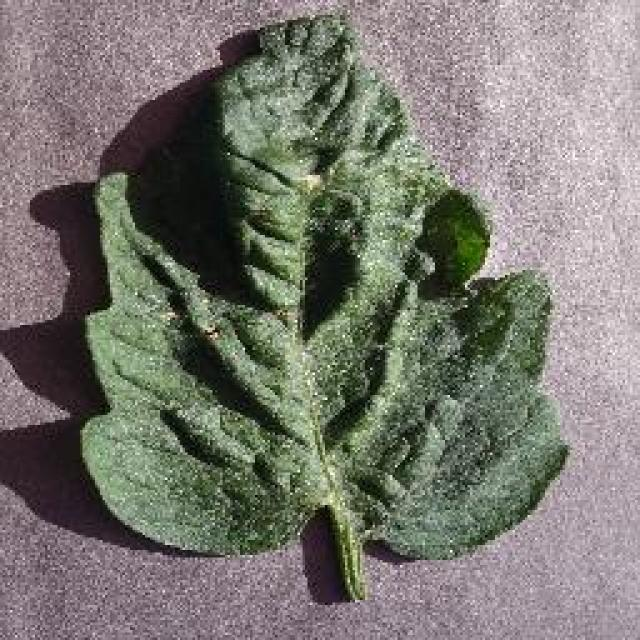Tomato___Target_Spot: (80, 15, 565, 598)
